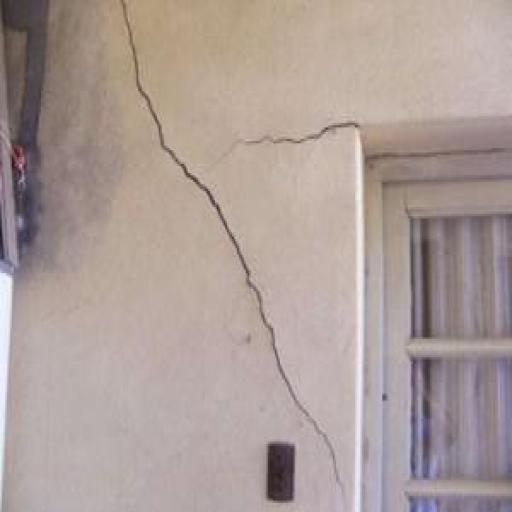spalling: (115, 3, 343, 479), (214, 112, 363, 158)
